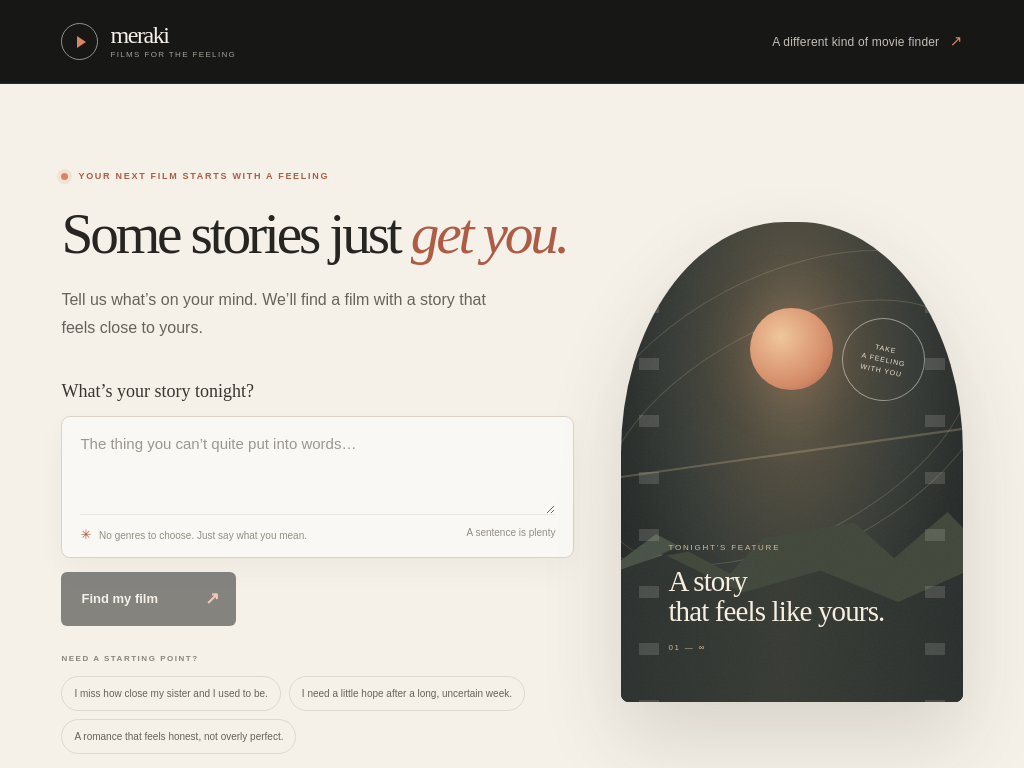
Test case: Movie discovery flow › fills the story input from a suggested starting point
Click the button "I miss how close my sister and I used to be." at (171, 694), box x1=61 y1=676 x2=280 y2=711
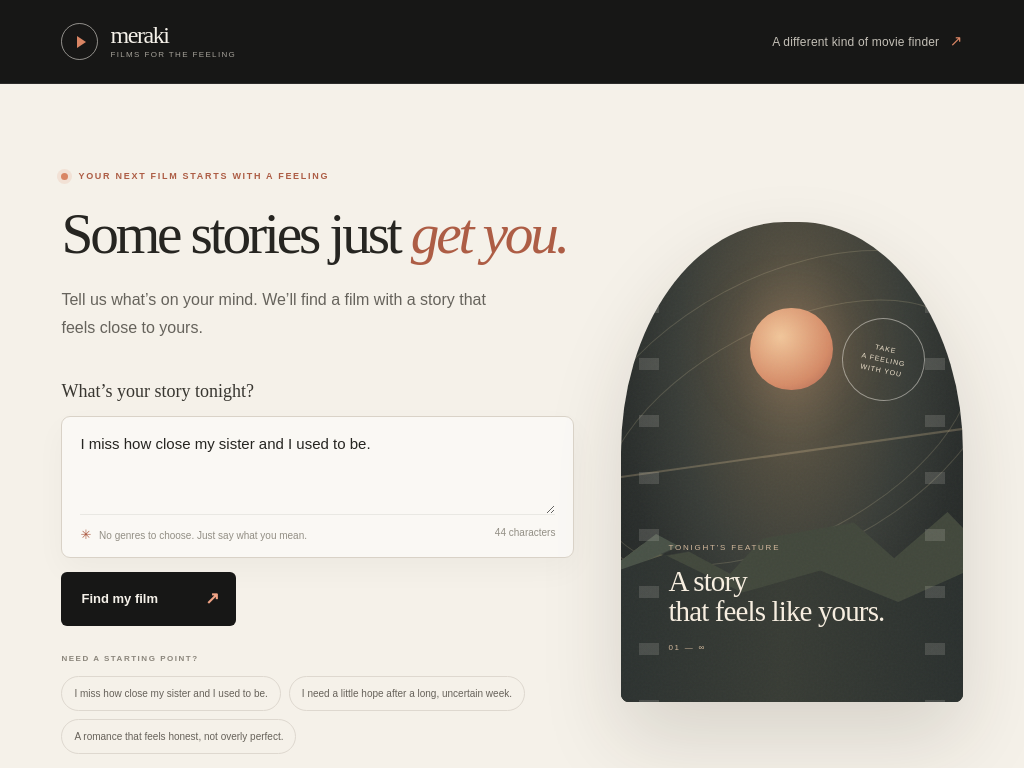
Expected: the text box with id "situation" holds "I miss how close my sister and I used to be.", x1=80 y1=432 x2=555 y2=514
